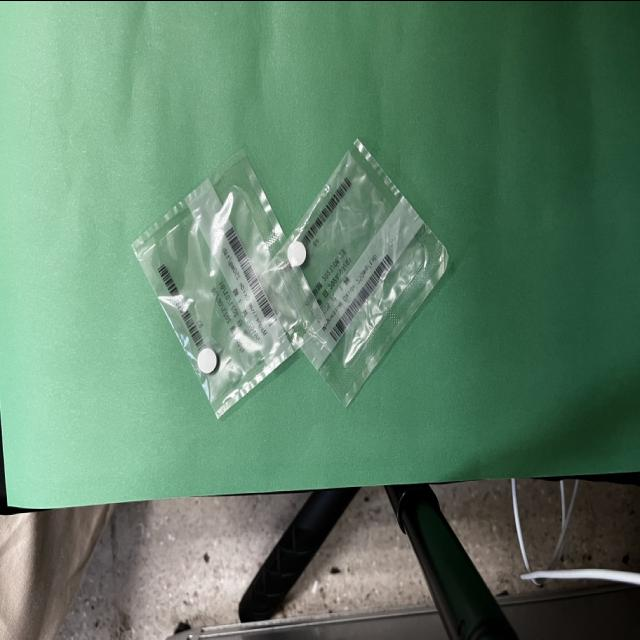Other Objects: (132, 139, 448, 417)
